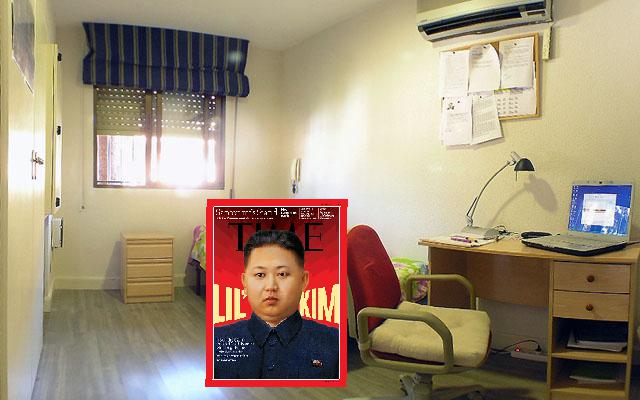times: (203, 195, 348, 394)
